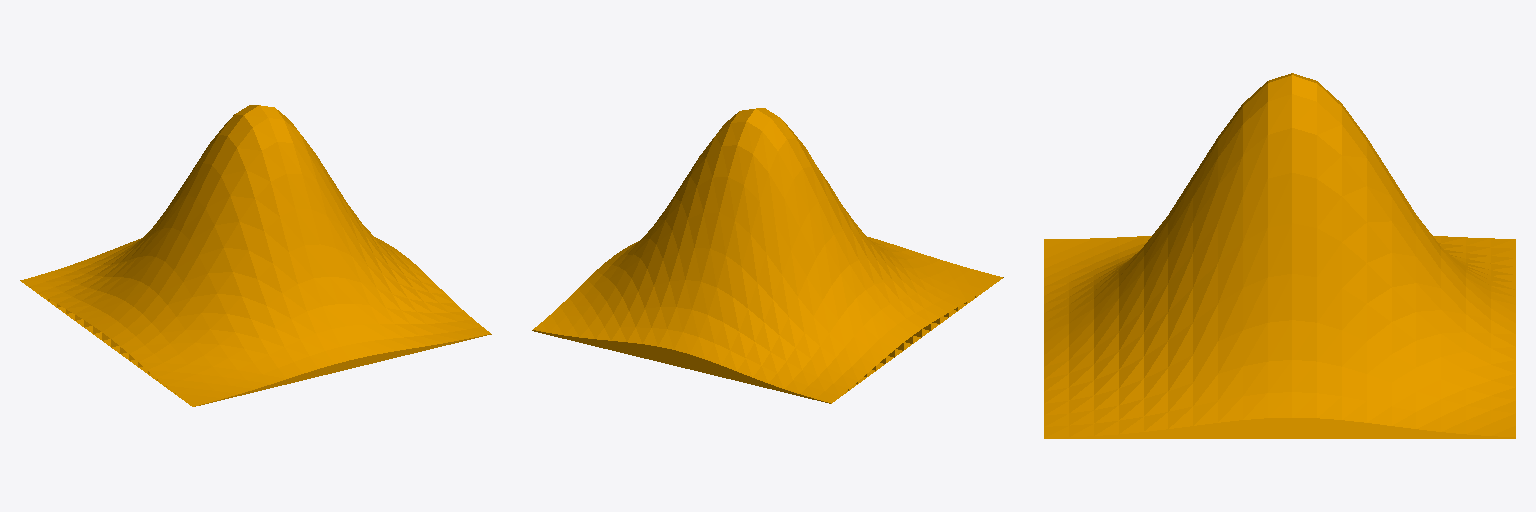
robot.urdf — steep_mountain:
<?xml version="1.0"?>
<robot name="steep_mountain">
  <link name="baseLink">
    <inertial>
      <origin xyz="0 0 0" rpy="0 0 0"/>
      <mass value="1"/>
      <inertia ixx="1" ixy="0" ixz="0" iyy="1" iyz="0" izz="1"/>
    </inertial>
    <visual>
      <origin xyz="0 0 0" rpy="0 0 0"/>
      <geometry>
        <mesh filename="steep_mountain.obj" scale="1 1 1"/>
      </geometry>
    </visual>
    <collision>
      <origin xyz="0 0 0" rpy="0 0 0"/>
      <geometry>
        <mesh filename="steep_mountain.obj" scale="1 1 1"/>
      </geometry>
    </collision>
  </link>
</robot>

--- Render facts (derived) ---
3 views of the same robot in one strip: view 1: azimuth 30°, elevation 25°; view 2: azimuth 150°, elevation 25°; view 3: azimuth 270°, elevation 25° (orthographic).
Robot: steep_mountain — 1 links, 0 joints (none); root link baseLink; default pose: every joint at zero.
Visible links, largest first — view 1: baseLink; view 2: baseLink; view 3: baseLink.
Link boxes in pixels (x1=…): baseLink: x1=20, y1=105, x2=491, y2=406; baseLink: x1=532, y1=108, x2=1003, y2=403; baseLink: x1=1044, y1=73, x2=1515, y2=438.
Bounding box of the posed robot: 9.5 × 9.5 × 6 m (x, y, z).
Meshes: 1 distinct files referenced, 1 mesh visuals loaded (1 OBJ).
